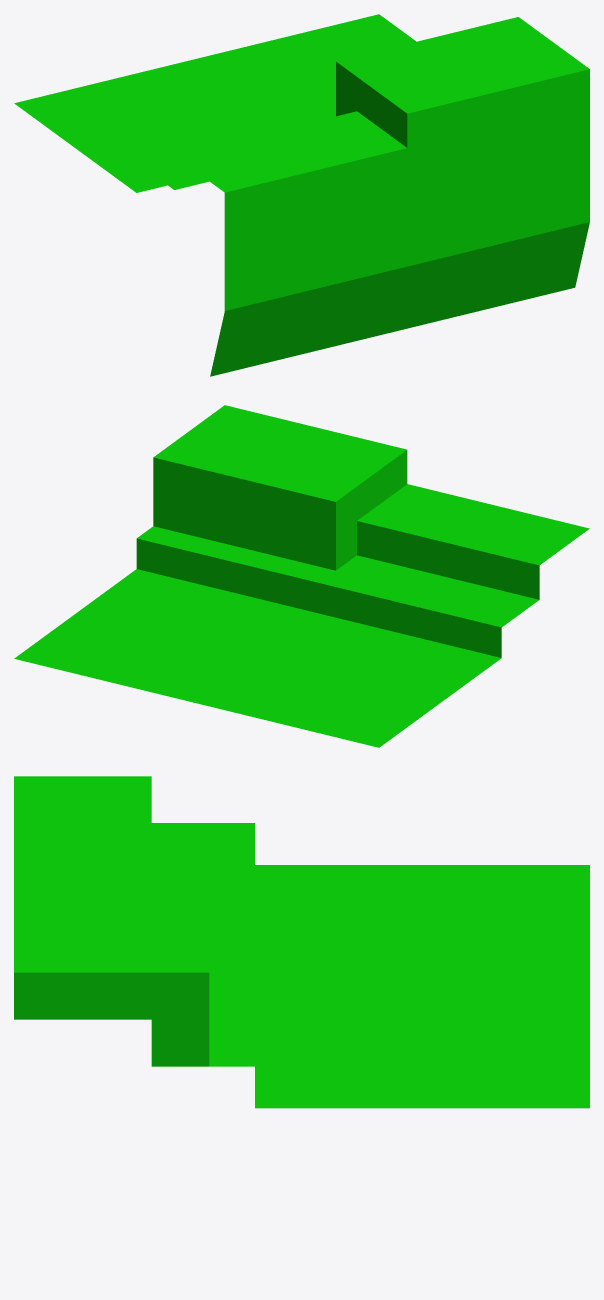
The model's file is Orthogonal_TopFloor.glb.
3 views of the same model, one above another, from view 1: azimuth 30°, elevation 25°; view 2: azimuth 150°, elevation 25°; view 3: azimuth 270°, elevation 25° (orthographic). The views are drawn at different scales.
Parts seen in each view (by area): view 1: Orthogonal_TopFloor; view 2: Orthogonal_TopFloor; view 3: Orthogonal_TopFloor.
Part boxes in pixels (x1=…): Orthogonal_TopFloor: x1=14, y1=14, x2=589, y2=376; Orthogonal_TopFloor: x1=14, y1=405, x2=589, y2=747; Orthogonal_TopFloor: x1=14, y1=776, x2=589, y2=1108.
Bounding box in the file's own units: 0.5 × 0.3 × 0.5.
